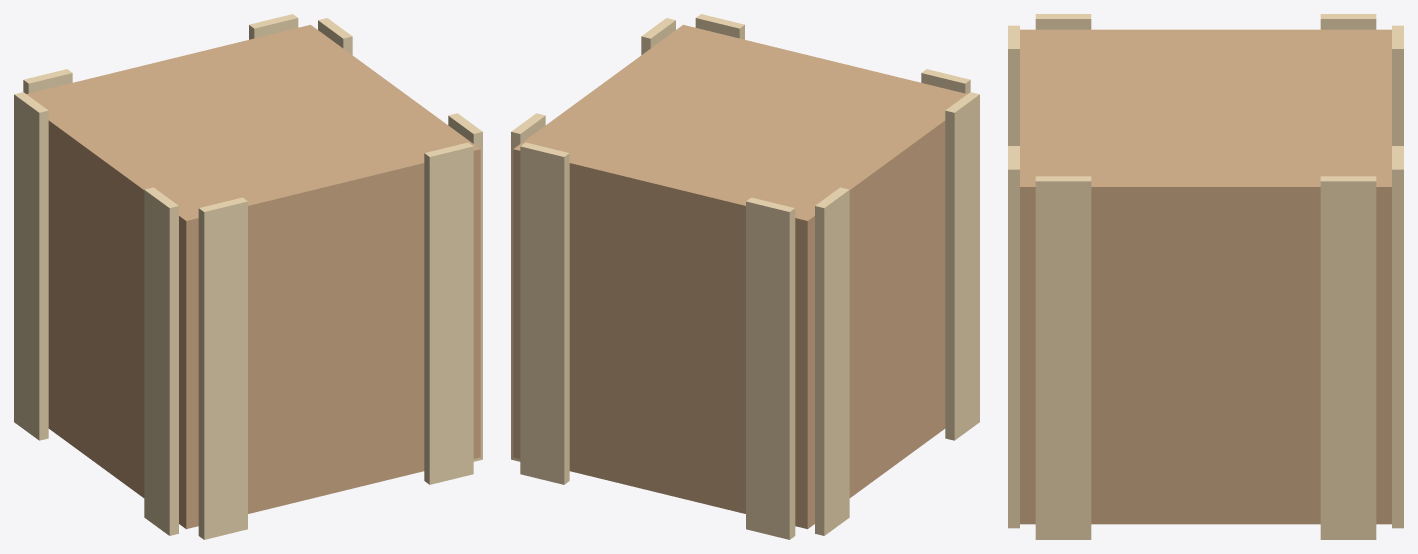
Rendered from crate.glb.
3 renders of one model, left to right at view 1: azimuth 30°, elevation 25°; view 2: azimuth 150°, elevation 25°; view 3: azimuth 270°, elevation 25°, orthographic. The views are drawn at different scales.
Visible parts, largest first — view 1: wood, brace-2-1--0.36, brace-2-1-0.36, brace-0--1--0.36, brace-0--1-0.36, brace-0-1-0.36, brace-2--1-0.36, brace-2--1--0.36, brace-0-1--0.36; view 2: wood, brace-2--1--0.36, brace-2--1-0.36, brace-0--1-0.36, brace-0--1--0.36, brace-0-1--0.36, brace-2-1-0.36, brace-2-1--0.36, brace-0-1-0.36; view 3: wood, brace-0-1--0.36, brace-0-1-0.36, brace-2--1-0.36, brace-2-1-0.36, brace-2--1--0.36, brace-2-1--0.36, brace-0--1--0.36, brace-0--1-0.36.
Part boxes in pixels (x1,y1,x2,y2): wood: (26,24,480,529); brace-2-1--0.36: (198,197,247,539); brace-2-1-0.36: (424,142,473,484); brace-0--1--0.36: (14,92,48,440); brace-0--1-0.36: (144,187,178,535); brace-0-1-0.36: (448,113,482,461); brace-2--1-0.36: (249,14,298,39); brace-2--1--0.36: (23,69,72,93); brace-0-1--0.36: (318,18,352,54); wood: (513,24,967,529); brace-2--1--0.36: (746,197,795,539); brace-2--1-0.36: (520,142,569,484); brace-0--1-0.36: (945,92,979,440); brace-0--1--0.36: (815,187,849,535); brace-0-1--0.36: (511,113,545,461); brace-2-1-0.36: (695,14,744,39); brace-2-1--0.36: (921,69,970,93); brace-0-1-0.36: (641,18,675,54); wood: (1020,29,1391,524); brace-0-1--0.36: (1320,176,1376,539); brace-0-1-0.36: (1035,176,1091,539); brace-2--1-0.36: (1392,146,1403,528); brace-2-1-0.36: (1008,146,1019,528); brace-2--1--0.36: (1392,25,1403,145); brace-2-1--0.36: (1008,25,1019,145); brace-0--1--0.36: (1320,14,1376,29); brace-0--1-0.36: (1035,14,1091,29).
Size of the model in its own units: 1 by 1 by 1.
